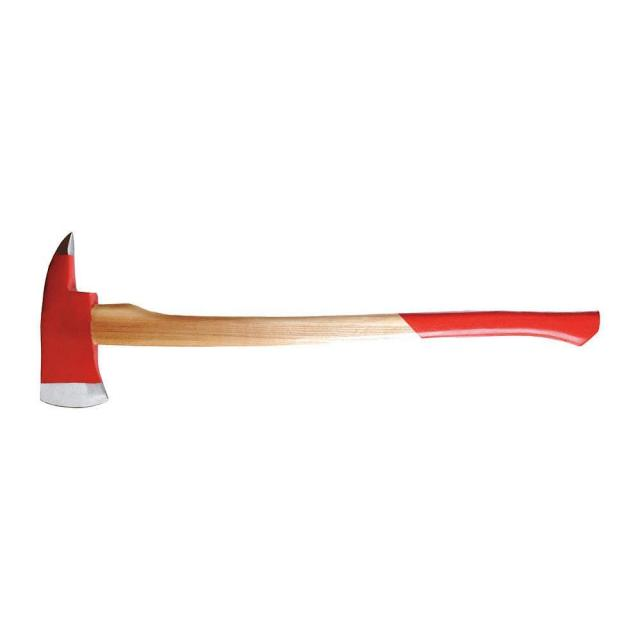Kapak: (40, 217, 616, 428)
